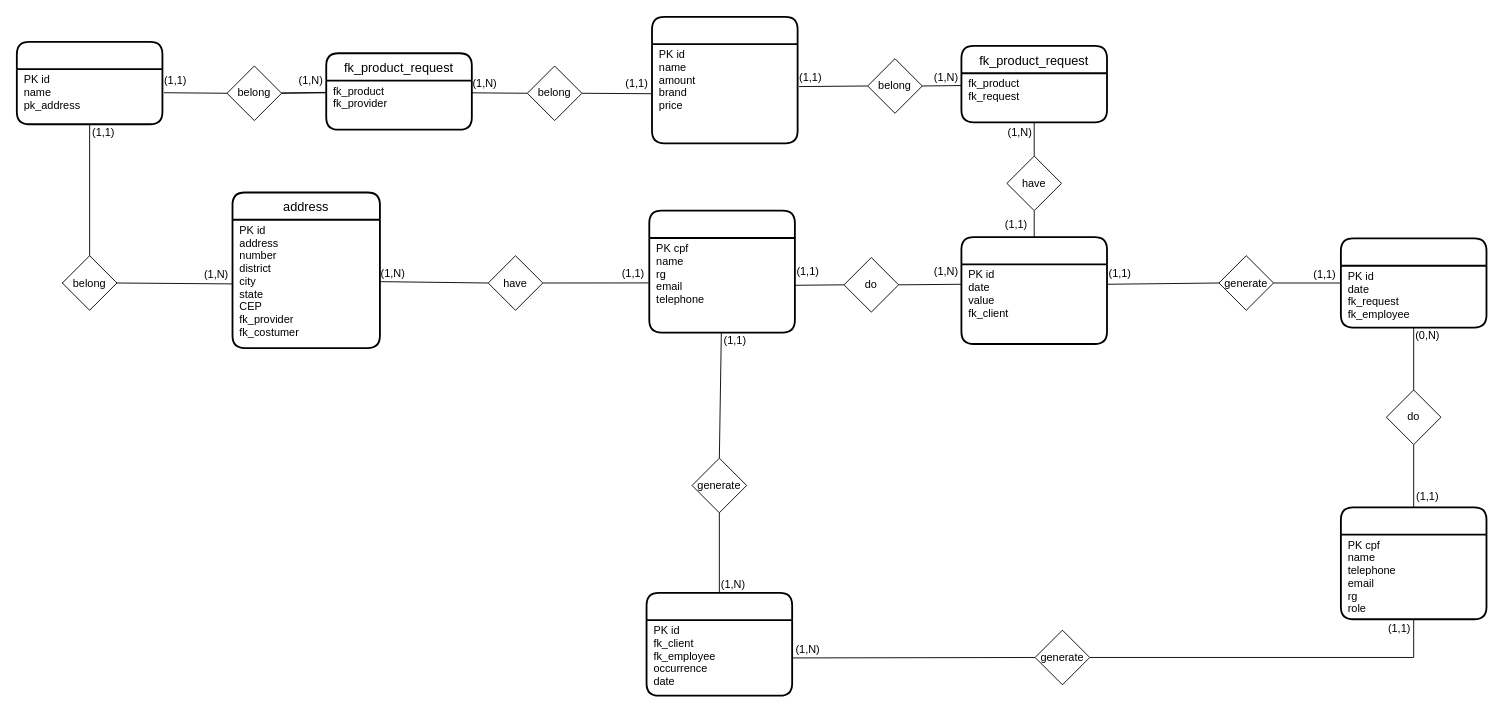
This 1502x712 diagram has some shape labels left out. Here are the shapes that lost their labels. From the top down, the box of each, then its label:
(15, 40, 163, 125): provider
(651, 15, 798, 144): product
(648, 209, 795, 333): costumer
(960, 236, 1107, 344): request
(1340, 237, 1487, 328): sale
(1340, 506, 1487, 620): Employee
(645, 592, 793, 696): logs
